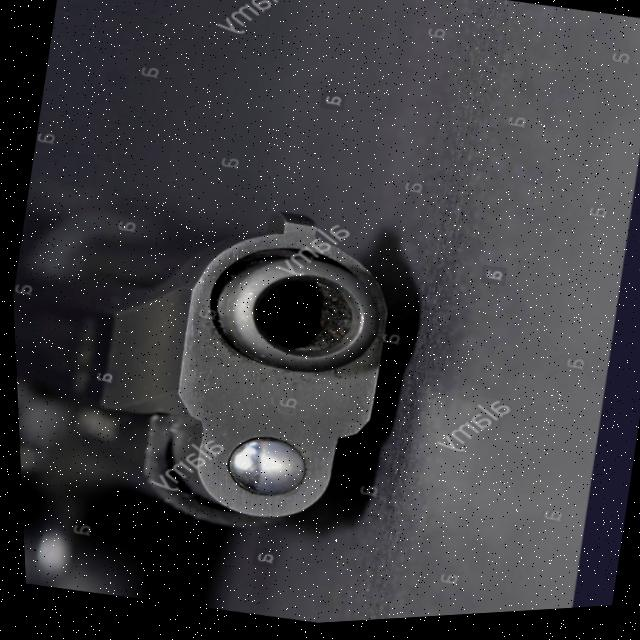pistol: (6, 156, 417, 640)
